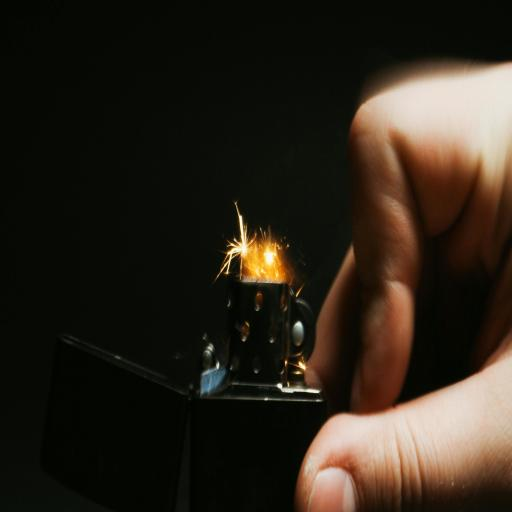lighter: (23, 132, 333, 512)
